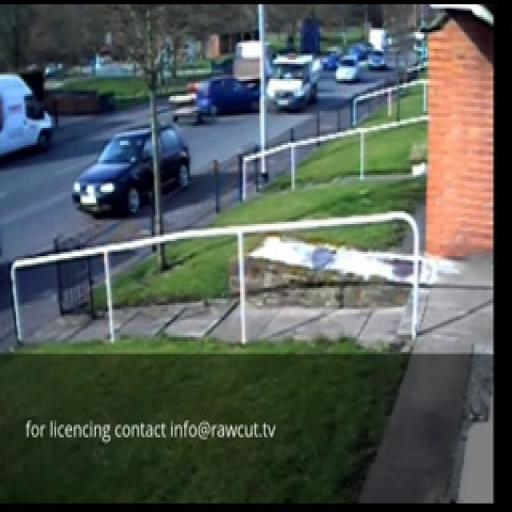Car: (88, 128, 188, 212), (175, 40, 265, 114), (0, 73, 58, 153), (264, 52, 320, 115), (200, 77, 266, 120), (336, 56, 358, 84), (321, 50, 339, 70), (369, 49, 386, 68)
Minor Accident: (176, 39, 268, 121)
